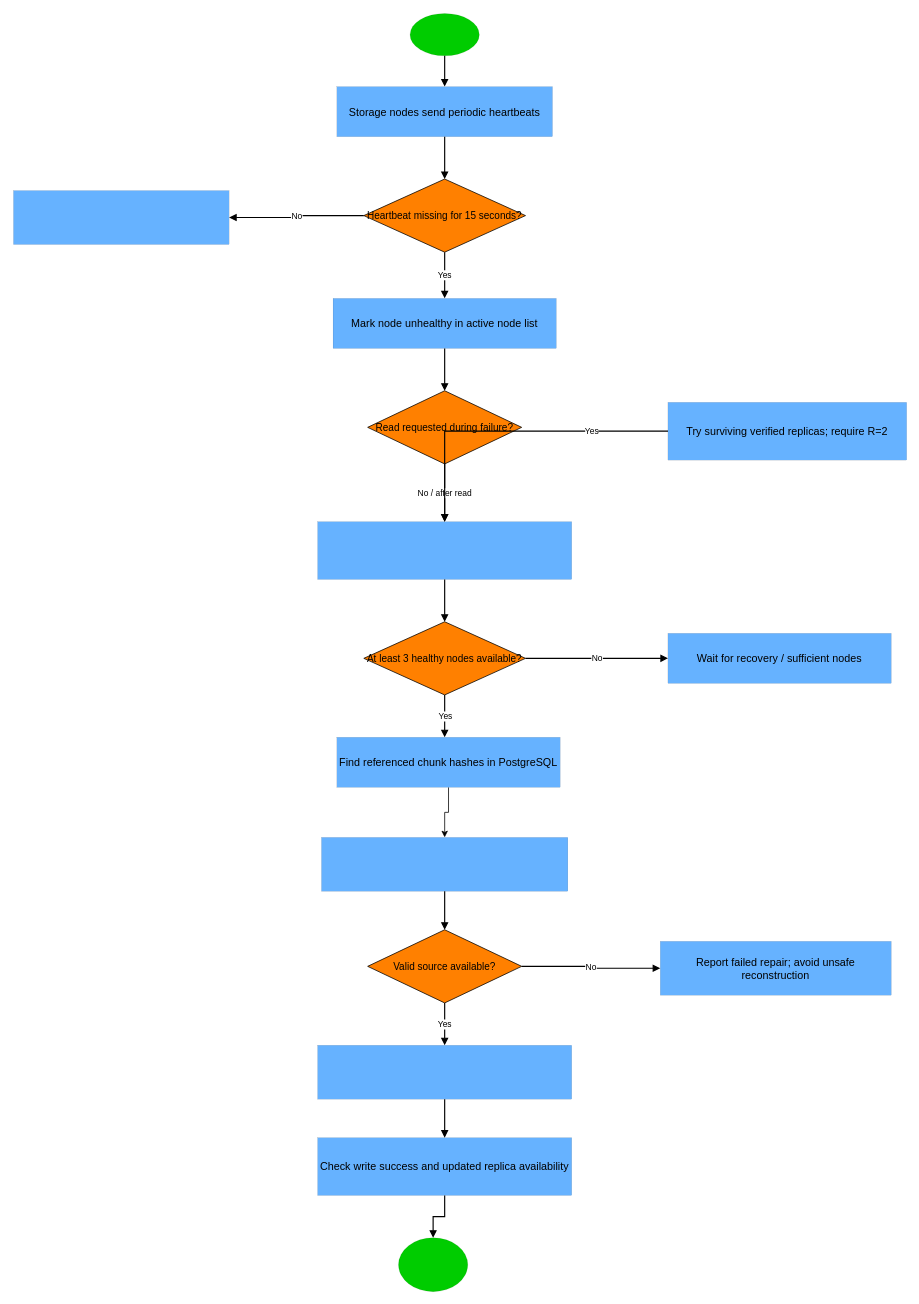
The diagram is 919 pixels wide and 1304 high, and some of its shapes have lost their labels. The shapes that lost their labels are listed below. From the top down, each one's box as (x1, y1, x2, y2) in pixels, then its label:
(410, 13, 479, 55): Start
(13, 190, 229, 244): Node stays healthy; continue monitoring
(317, 521, 571, 579): Automatic repair enabled or manual /cluster/repair called
(321, 837, 567, 891): Find a healthy SHA-256 verified chunk copy
(317, 1045, 571, 1099): PUT missing replicas to current ring targets
(398, 1237, 467, 1291): End
